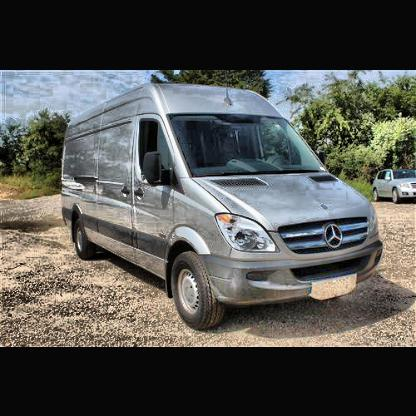Mercedes-Benz Sprinter Van 2012: (61, 82, 386, 333)
